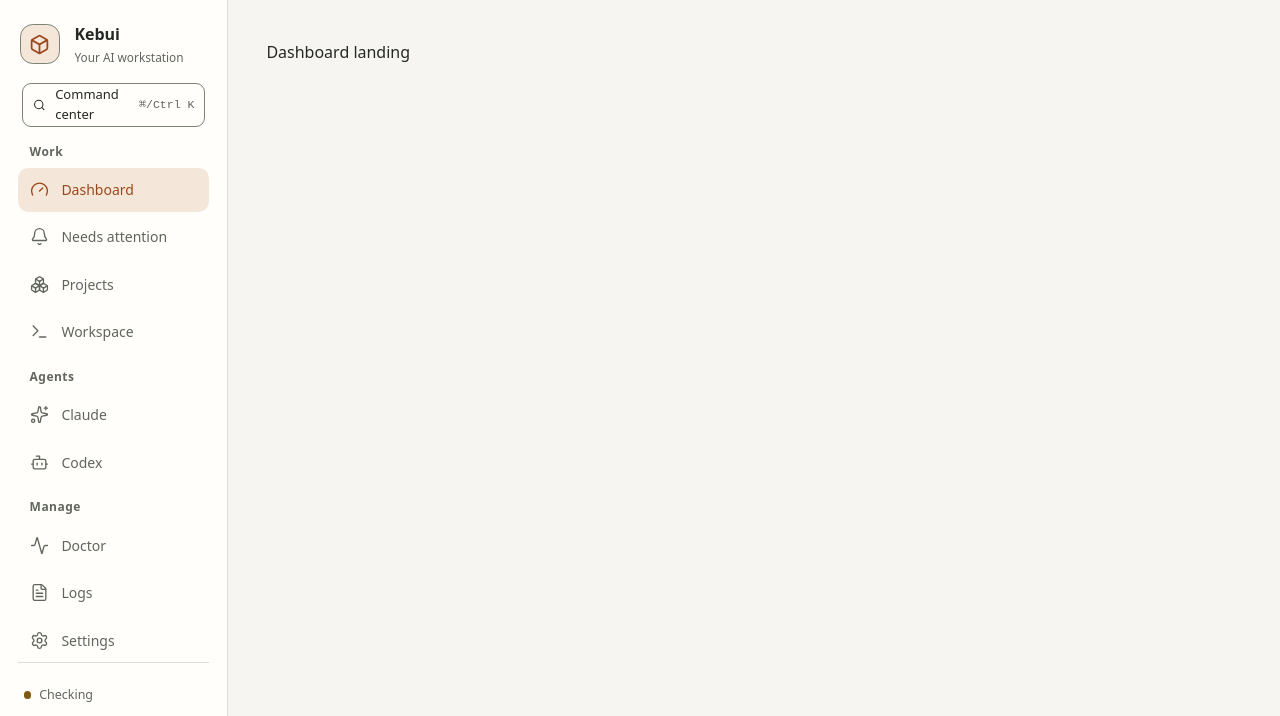
Test case: Command center › opens with Ctrl+K, loads current Projects and navigates from keyboard selection
Press k
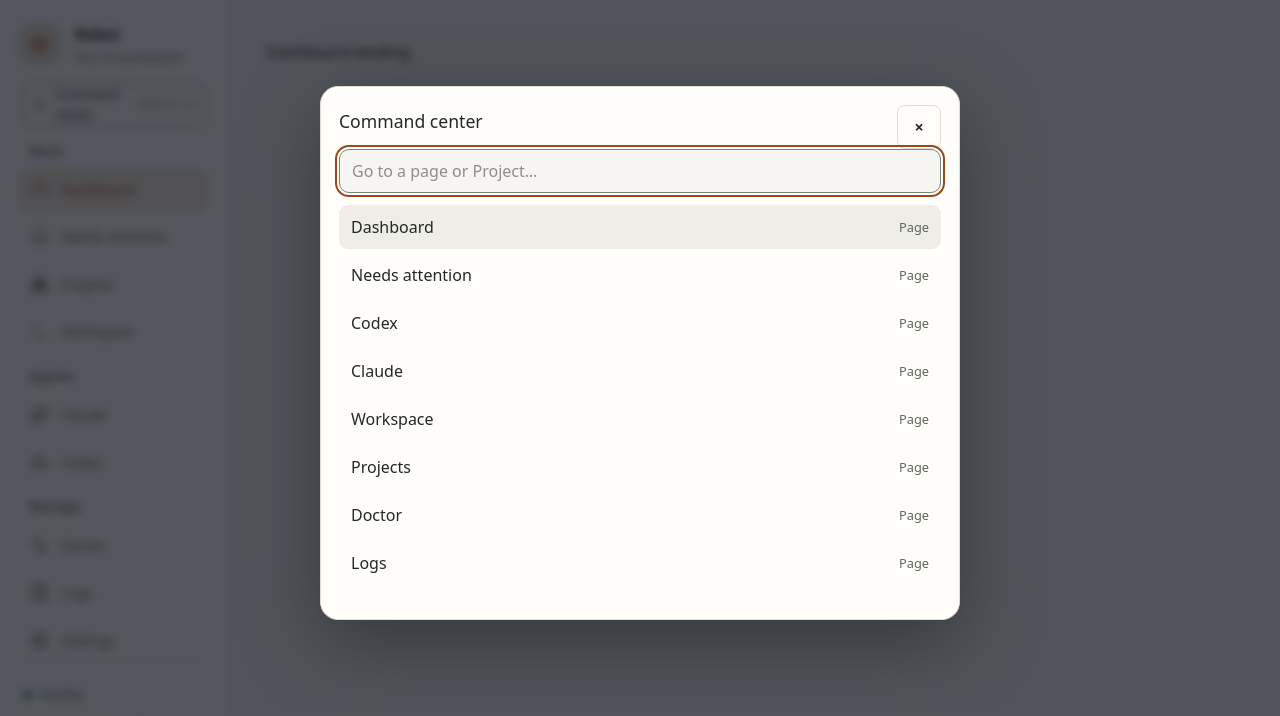
Now the dialog "Command center" is shown, box [320,86,960,620]
Type "alpha" into the dropdown named "Search pages and Projects" at (640, 171), box [339,149,941,193]
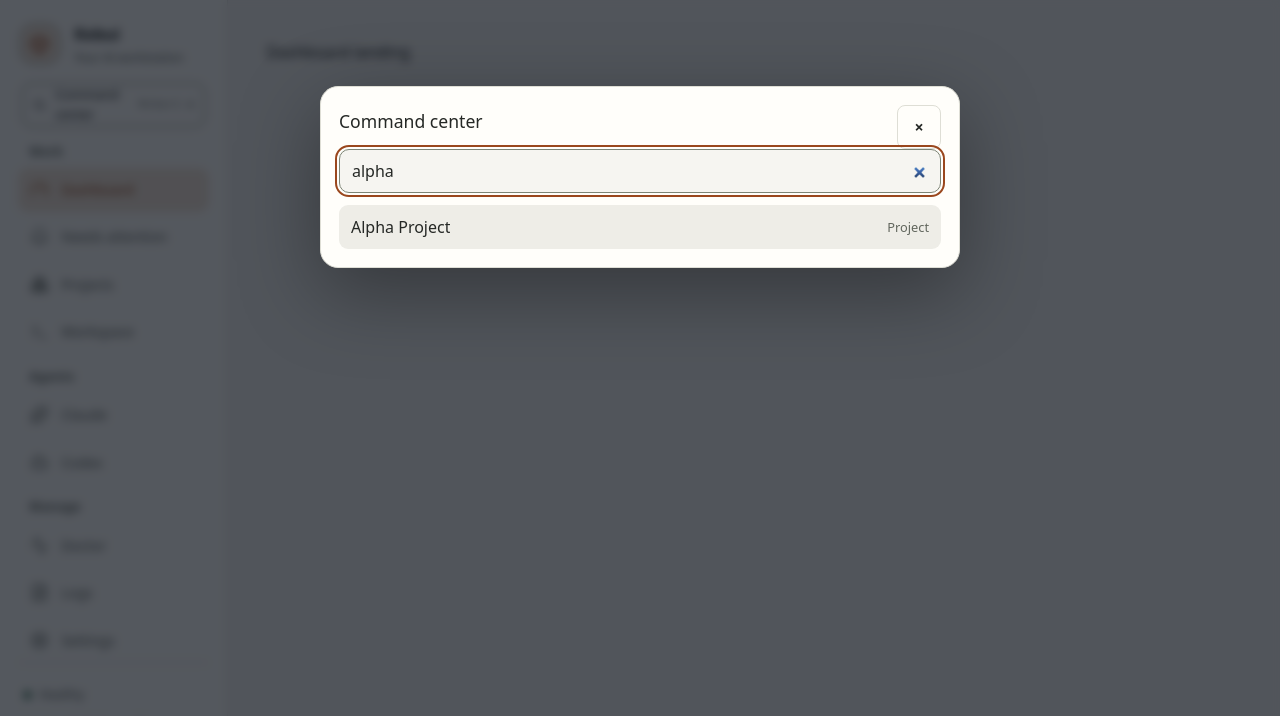
Now the option "Alpha Project Project" is shown, box [339,205,941,249]
Press Enter in the dropdown named "Search pages and Projects", box [339,149,941,193]
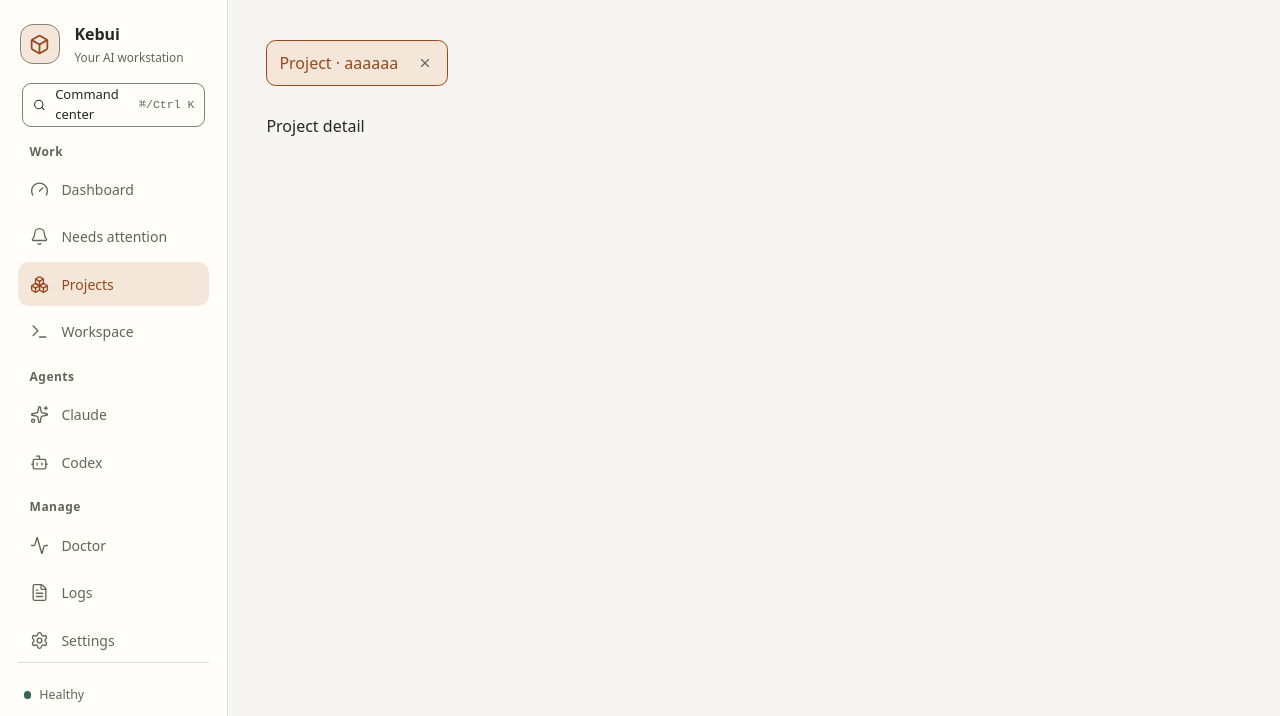
Now the text "Project detail" is shown, box [266,115,365,137]
Now the dialog is gone
